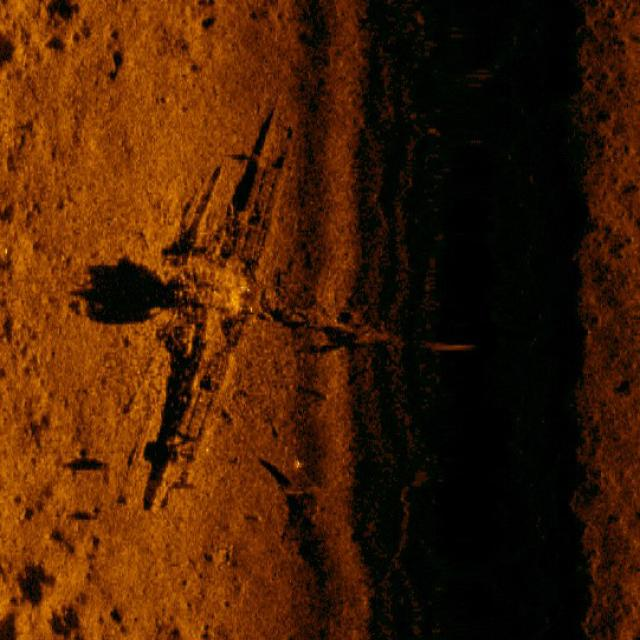plane: (109, 84, 426, 512)
